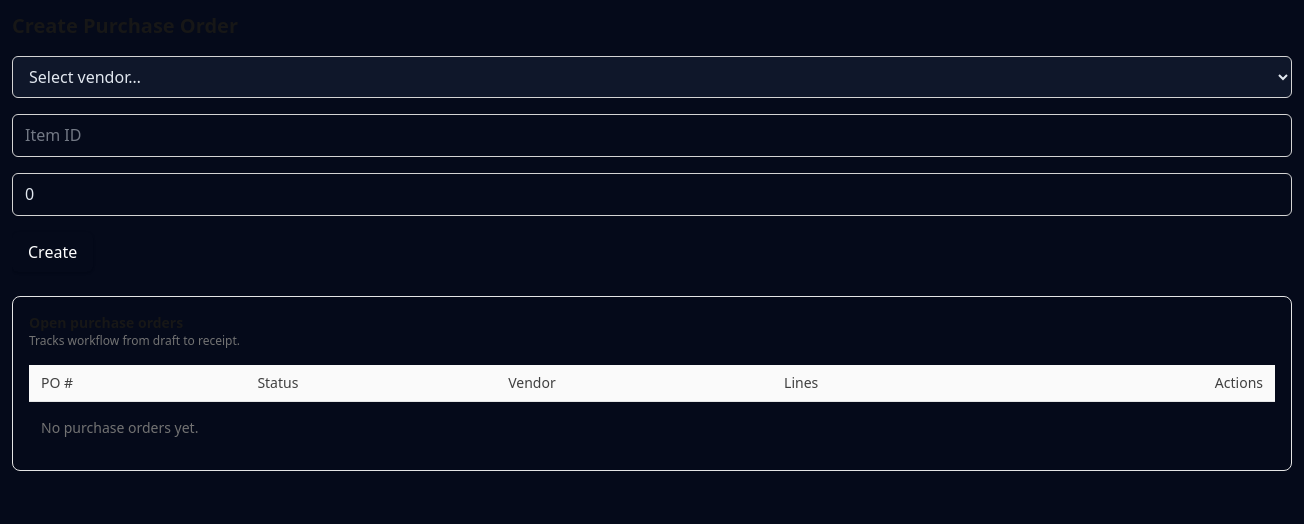
Test: PurchaseOrderPage › validates draft creation input before submitting
Click the button "Create" at (53, 252), box x1=12 y1=232 x2=93 y2=272
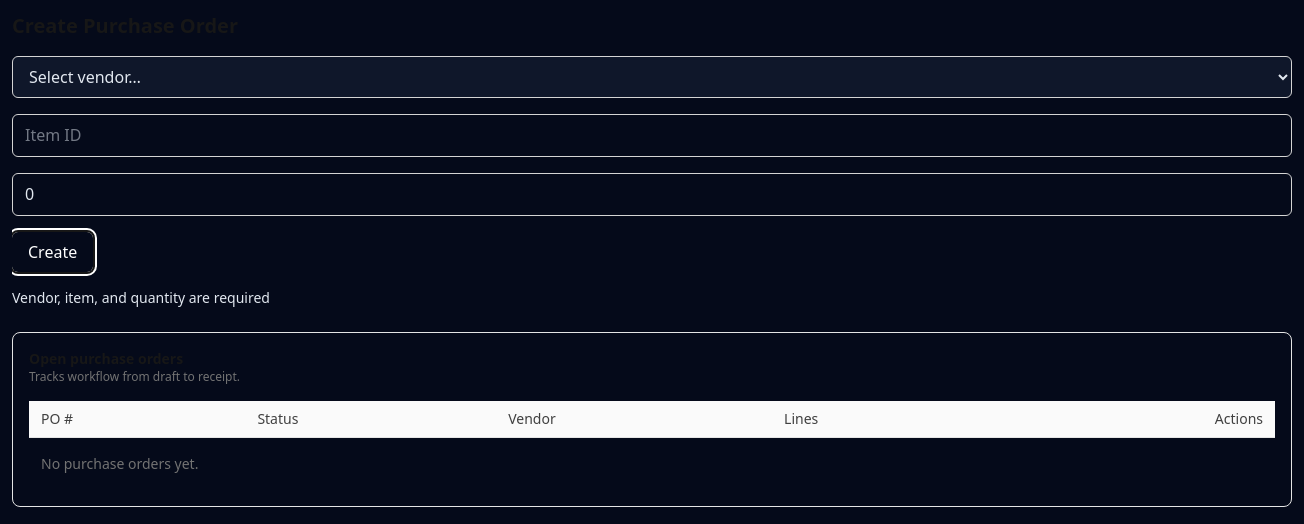
Expected: the text "Vendor, item, and quantity are required" is shown, x1=12 y1=288 x2=270 y2=307
